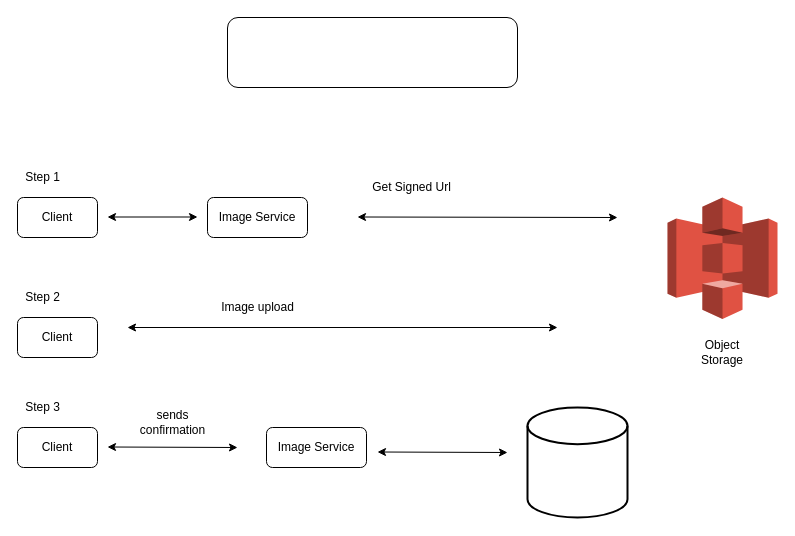
Image size: 795x536. Some labels were removed from this diagram. The centre of each missing label's shape, as x and y in pixels:
"Image Upload Service System Design" goes at (372,52).
"NoSQL Image Metadata" goes at (577,462).
